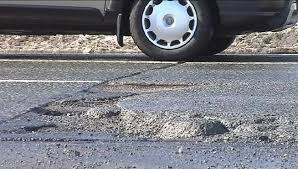pothole: (10, 95, 296, 143), (91, 76, 194, 95)
